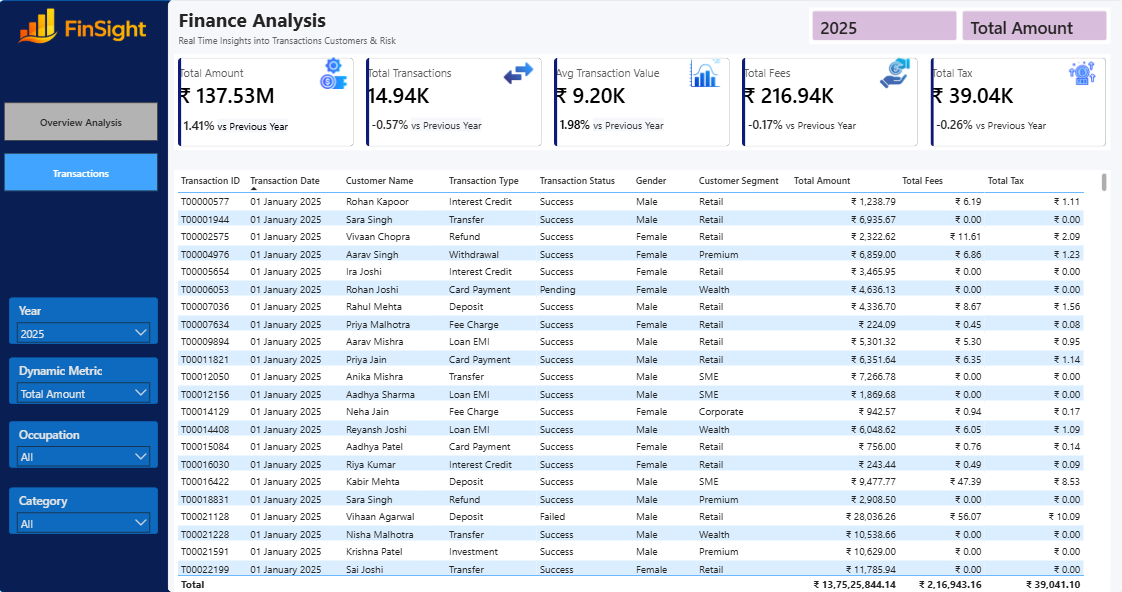

The page's visual inventory and layout, read from the dashboard file:
{"tool":"powerbi","page":{"name":"Transactions","canvas":[1800,950],"ordinal":1},"visuals":[{"type":"shape","box":[0,0,280,950],"z":0},{"type":"shape","box":[270,0,1530,950],"z":1000},{"type":"image","box":[0,0,270,84],"z":2000},{"type":"cardVisual","fields":{"Data":["finance_transactions.Dashboard Title"]},"box":[270,0,386,84],"z":3000},{"type":"cardVisual","fields":{"Data":["finance_transactions.Total Amount","finance_transactions.Total Transactions","finance_transactions.Avg Transaction Value","finance_transactions.Total Fees","finance_transactions.Total Tax"]},"box":[280,86,1498,154],"z":4000},{"type":"image","box":[510,92,50,50],"z":5000},{"type":"image","box":[806,92,50,50],"z":6000},{"type":"image","box":[1408,92,50,50],"z":7000},{"type":"image","box":[1104,92,50,50],"z":8000},{"type":"image","box":[1708,92,50,50],"z":9000},{"type":"shape","box":[280,272,1498,678],"z":10000},{"type":"cardVisual","fields":{"Data":["Calendar Table.Selected Year","Calendar Table.Selected Dynamic Measure"]},"box":[1296,12,482,58],"z":11000},{"type":"tableEx","fields":{"Values":["finance_transactions.transaction_id","finance_transactions.transaction_date","customers (5).customer_name","finance_transactions.transaction_type","finance_transactions.transaction_status","customers (5).gender","customers (5).customer_segment","finance_transactions.Total Amount","finance_transactions.Total Fees","finance_transactions.Total Tax"]},"box":[280,272,1498,678],"z":12000},{"type":"slicer","fields":{"Values":["Calendar Table.Year"]},"box":[16,476,238,74],"z":13000},{"type":"slicer","fields":{"Values":["Dynamic Metric.Dynamic Metric"]},"box":[16,572,238,74],"z":14000},{"type":"slicer","fields":{"Values":["customers (5).occupation"]},"box":[16,674,238,74],"z":15000},{"type":"slicer","fields":{"Values":["finance_transactions.merchant_category"]},"box":[16,780,238,74],"z":16000},{"type":"pageNavigator","box":[8,164,246,142],"z":17000}]}

Visuals, with their boxes on the page's 1800x950 design canvas (x1, y1, x2, y2). These are canvas units, not pixel positions in the 1122x592 screenshot, which may show the page scaled, cropped or inside an application window:
shape: [0, 0, 280, 950]
shape: [270, 0, 1800, 950]
image: [0, 0, 270, 84]
cardVisual - finance_transactions.Dashboard Title: [270, 0, 656, 84]
cardVisual - finance_transactions.Total Amount x finance_transactions.Total Transactions: [280, 86, 1778, 240]
image: [510, 92, 560, 142]
image: [806, 92, 856, 142]
image: [1408, 92, 1458, 142]
image: [1104, 92, 1154, 142]
image: [1708, 92, 1758, 142]
shape: [280, 272, 1778, 950]
cardVisual - Calendar Table.Selected Year x Calendar Table.Selected Dynamic Measure: [1296, 12, 1778, 70]
tableEx - finance_transactions.transaction_id x finance_transactions.transaction_date: [280, 272, 1778, 950]
slicer - Calendar Table.Year: [16, 476, 254, 550]
slicer - Dynamic Metric.Dynamic Metric: [16, 572, 254, 646]
slicer - customers (5).occupation: [16, 674, 254, 748]
slicer - finance_transactions.merchant_category: [16, 780, 254, 854]
pageNavigator: [8, 164, 254, 306]
